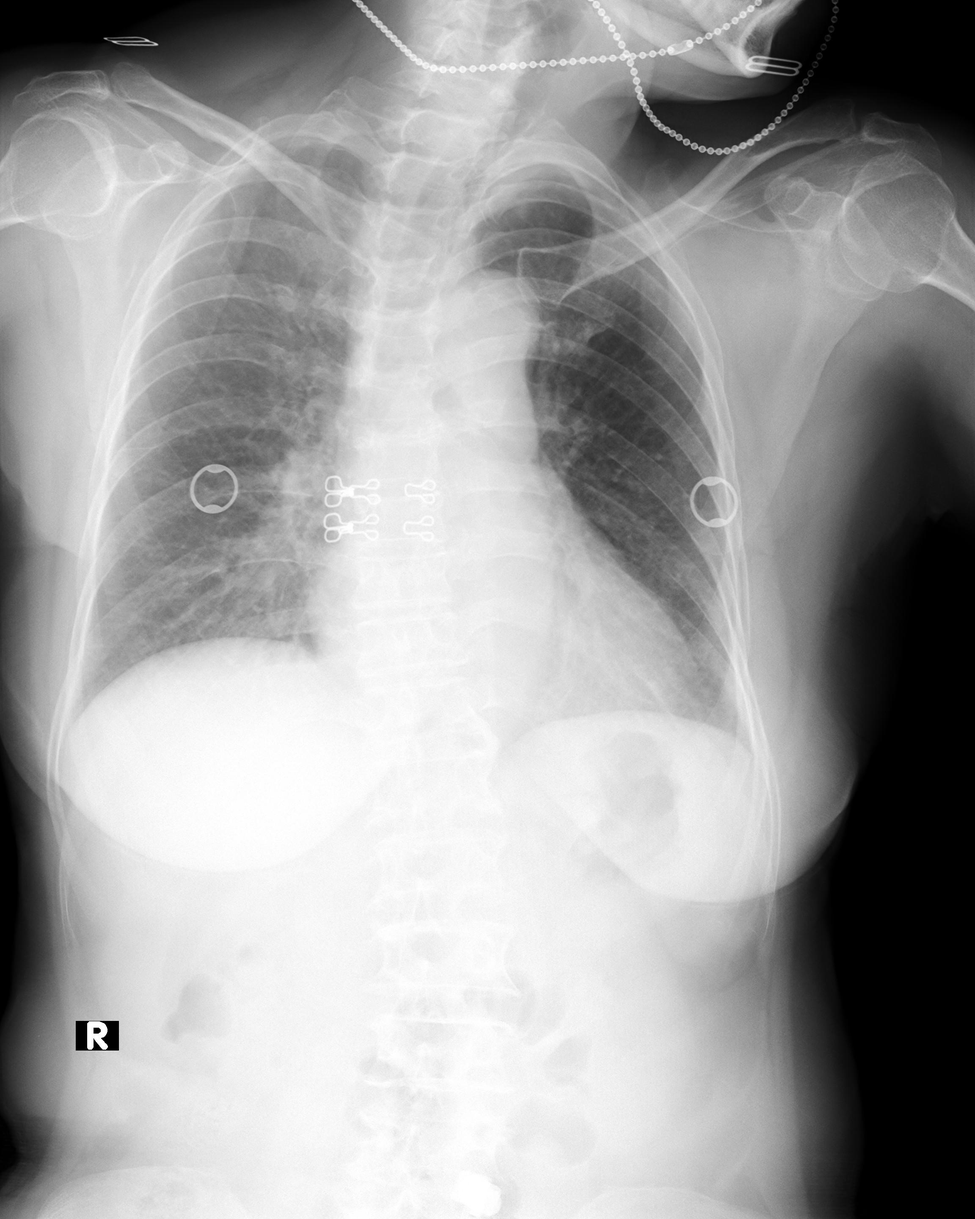Aortic enlargement: (443, 268, 540, 357)
Cardiomegaly: (308, 573, 708, 735)
